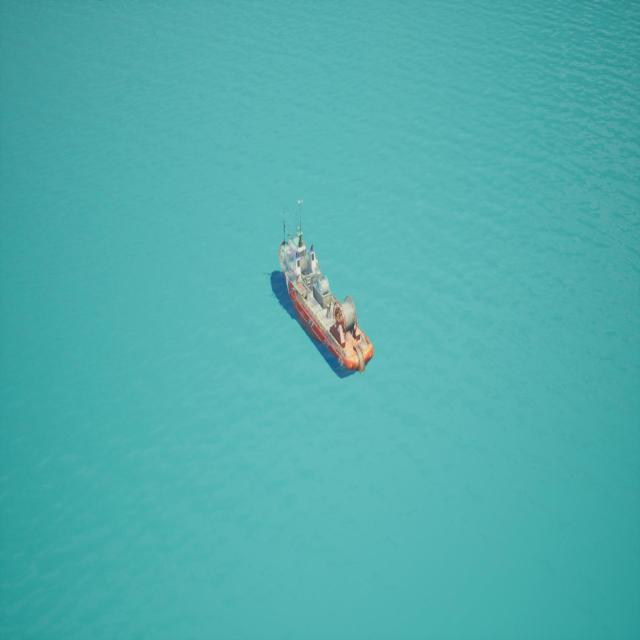tug boat: (280, 196, 379, 429)
